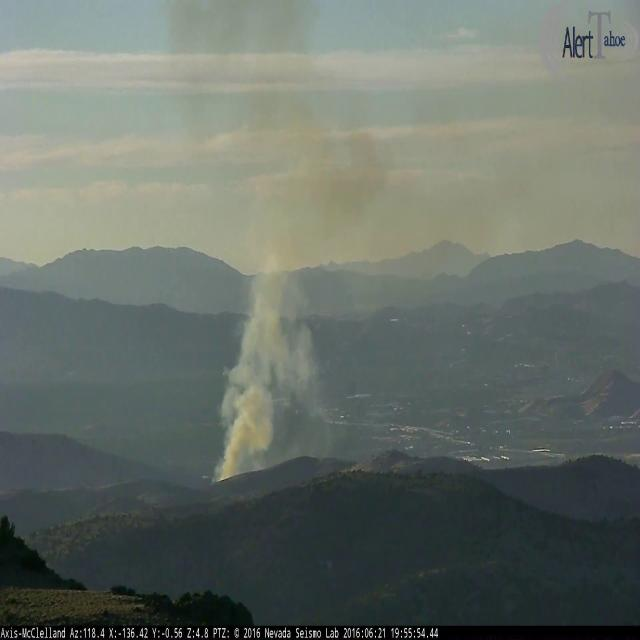smoke: (159, 5, 534, 484)
